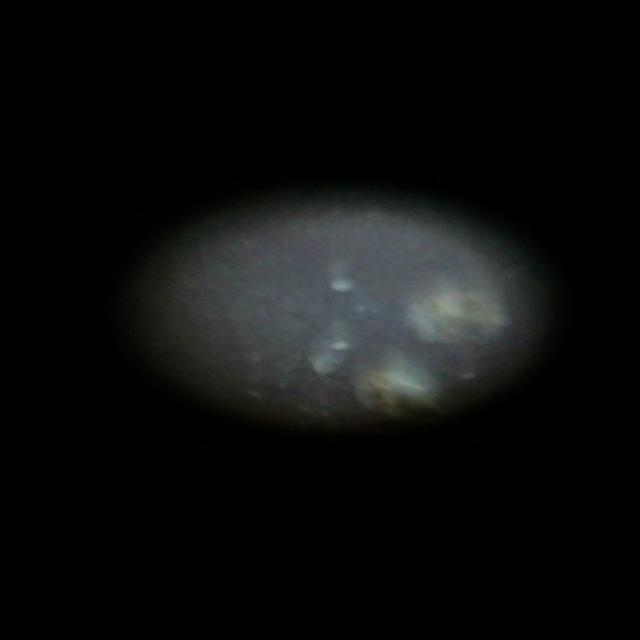alexandrium: (332, 354, 466, 424), (374, 282, 506, 350)
